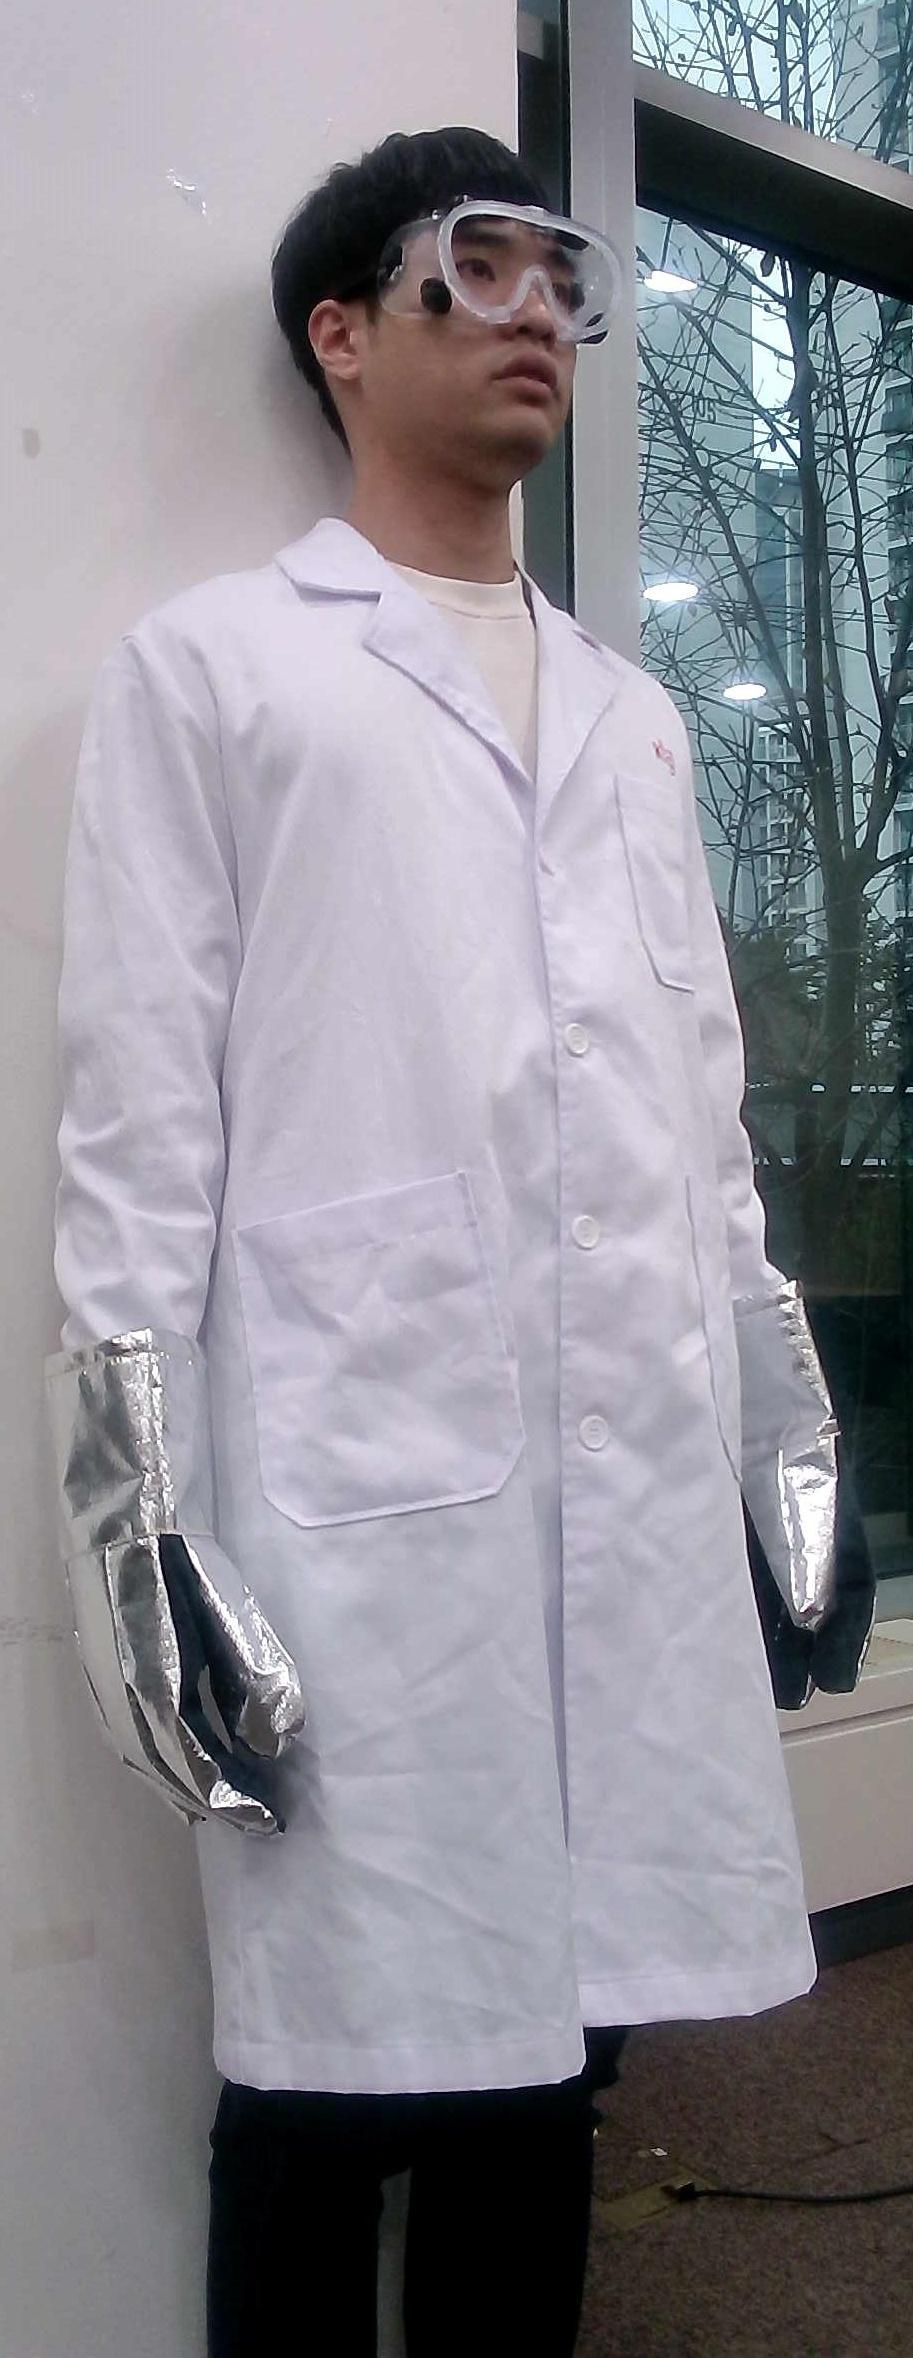lab_coat: (247, 565, 754, 2021)
